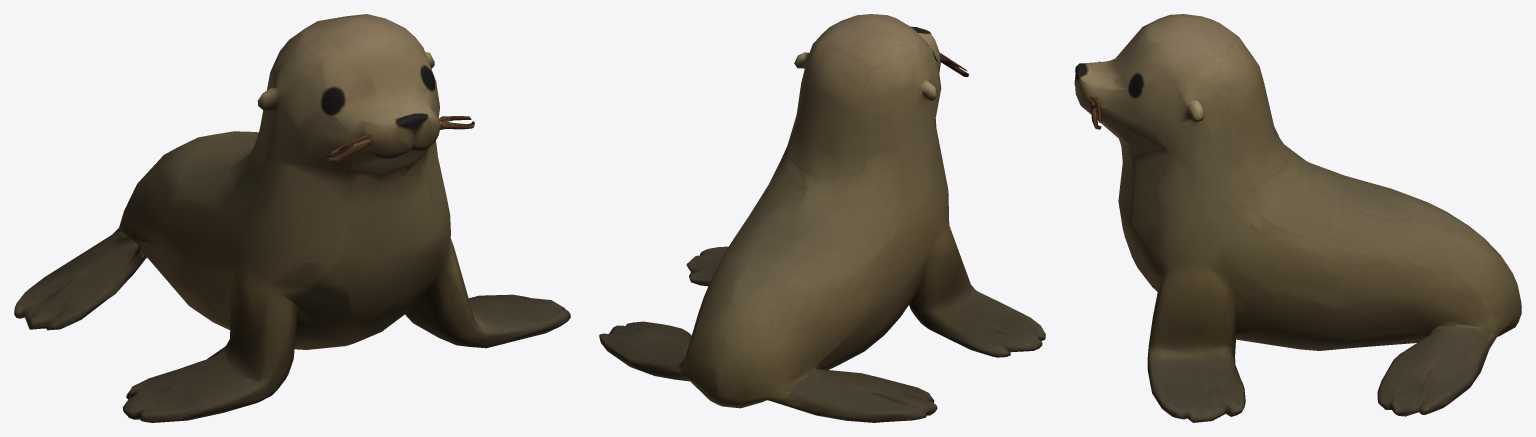
File: sea-lion.glb
The picture shows the model from 3 angles, left to right: view 1: azimuth 30°, elevation 25°; view 2: azimuth 150°, elevation 25°; view 3: azimuth 270°, elevation 25°; orthographic projection. The views are drawn at different scales.
Visible parts, largest first — view 1: geometry_0; view 2: geometry_0; view 3: geometry_0.
Part boxes in pixels (x1,y1,x2,y2): geometry_0: (14,14,570,422); geometry_0: (599,14,1045,422); geometry_0: (1074,14,1521,422).
Size of the model in its own units: 0.7492 by 0.584 by 0.7541.
1 material, 1 textured.
